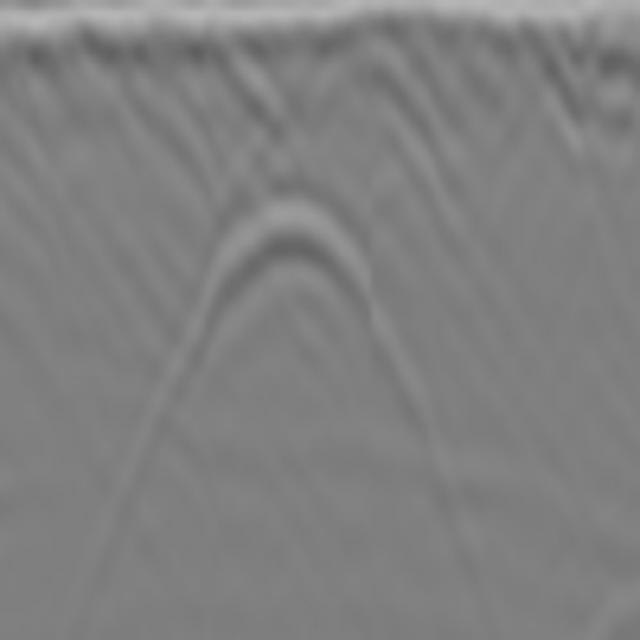hyperbola: (169, 176, 404, 394)
